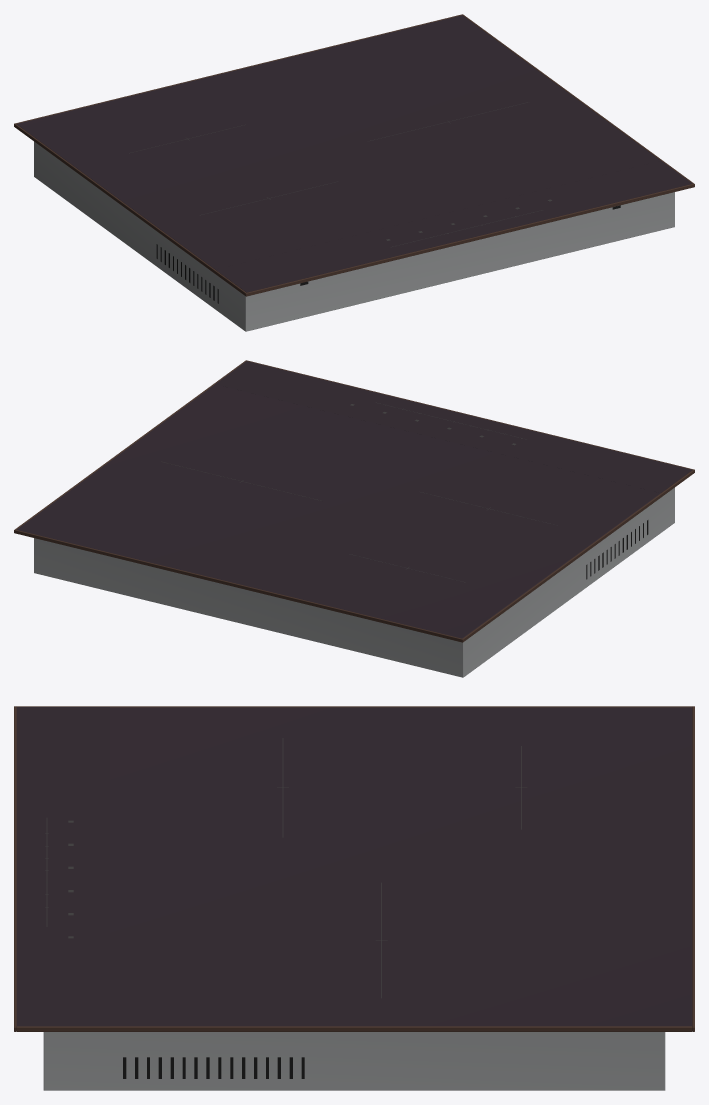
Rendered from BEI3AMB4-b67-823e9a.glb.
3 renders of one model, top to bottom at view 1: azimuth 30°, elevation 25°; view 2: azimuth 150°, elevation 25°; view 3: azimuth 270°, elevation 25°, orthographic. The views are drawn at different scales.
Parts seen in each view (by area): view 1: ControlSeparator, EmbeddedBody, ControlPanel, TopEdgeFB1, Slider; view 2: ControlSeparator, EmbeddedBody, ControlPanel, TopEdgeFB1, Slider; view 3: ControlSeparator, EmbeddedBody, ControlPanel, TopEdgeFB1, B67_FrontSlot_200, Slider.
Boxes of the visible parts, x1,y1,x2,y2 form: ControlSeparator: [16, 15, 660, 269]; EmbeddedBody: [34, 141, 674, 331]; ControlPanel: [215, 161, 692, 292]; TopEdgeFB1: [14, 14, 694, 296]; Slider: [129, 102, 551, 247]; ControlSeparator: [17, 384, 660, 638]; EmbeddedBody: [34, 487, 674, 677]; ControlPanel: [216, 361, 692, 492]; TopEdgeFB1: [14, 360, 694, 642]; Slider: [161, 402, 557, 582]; ControlSeparator: [108, 707, 692, 1026]; EmbeddedBody: [43, 1032, 665, 1090]; ControlPanel: [16, 707, 108, 1026]; TopEdgeFB1: [14, 706, 694, 1031]; B67_FrontSlot_200: [123, 1057, 304, 1078]; Slider: [45, 738, 526, 998].
Size of the model in its own units: 0.575 by 0.059 by 0.515.
